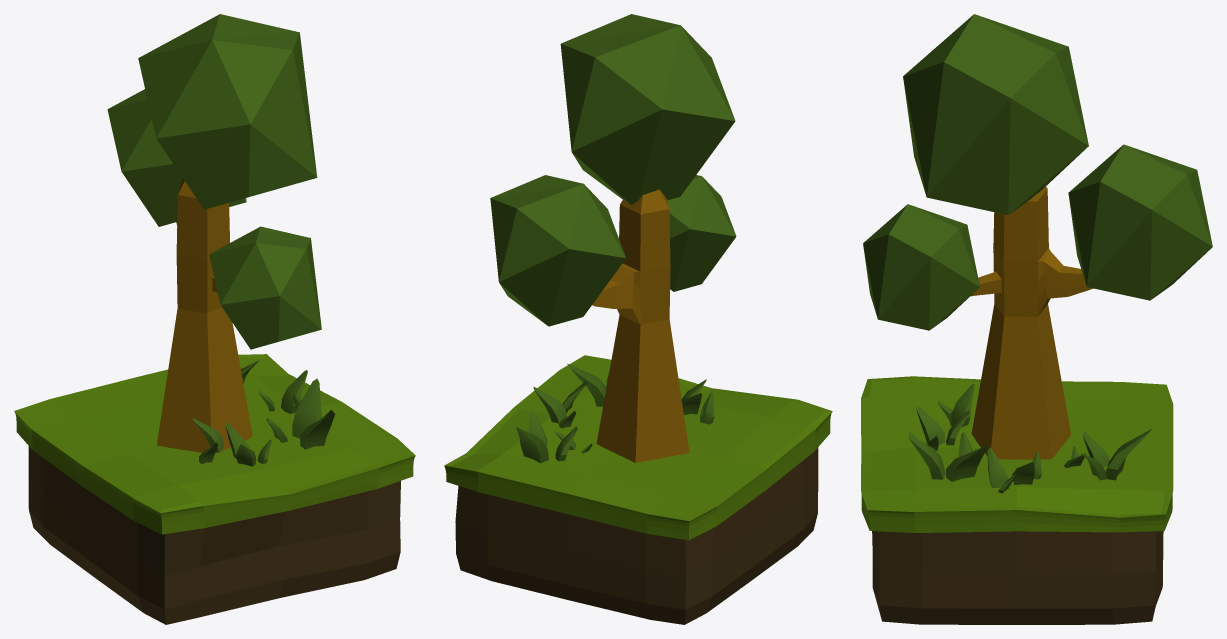
File: AnyTile_Tree.fbx
3 views of the same model, side by side, from view 1: azimuth 30°, elevation 25°; view 2: azimuth 150°, elevation 25°; view 3: azimuth 270°, elevation 25° (orthographic). The views are drawn at different scales.
Visible parts, largest first — view 1: DefaultGreenTile.002, Tree, Grass.002; view 2: DefaultGreenTile.002, Tree, Grass.002; view 3: Tree, DefaultGreenTile.002, Grass.002.
Boxes of the visible parts, box(x1,y1,x2,y2) form: DefaultGreenTile.002: box(14, 354, 415, 624); Tree: box(107, 14, 321, 453); Grass.002: box(192, 360, 334, 466); DefaultGreenTile.002: box(444, 355, 832, 624); Tree: box(490, 14, 736, 462); Grass.002: box(516, 363, 714, 463); Tree: box(863, 14, 1212, 459); DefaultGreenTile.002: box(861, 376, 1173, 624); Grass.002: box(908, 383, 1151, 493).
Size of the model in its own units: 19.42 by 22.03 by 37.65.
